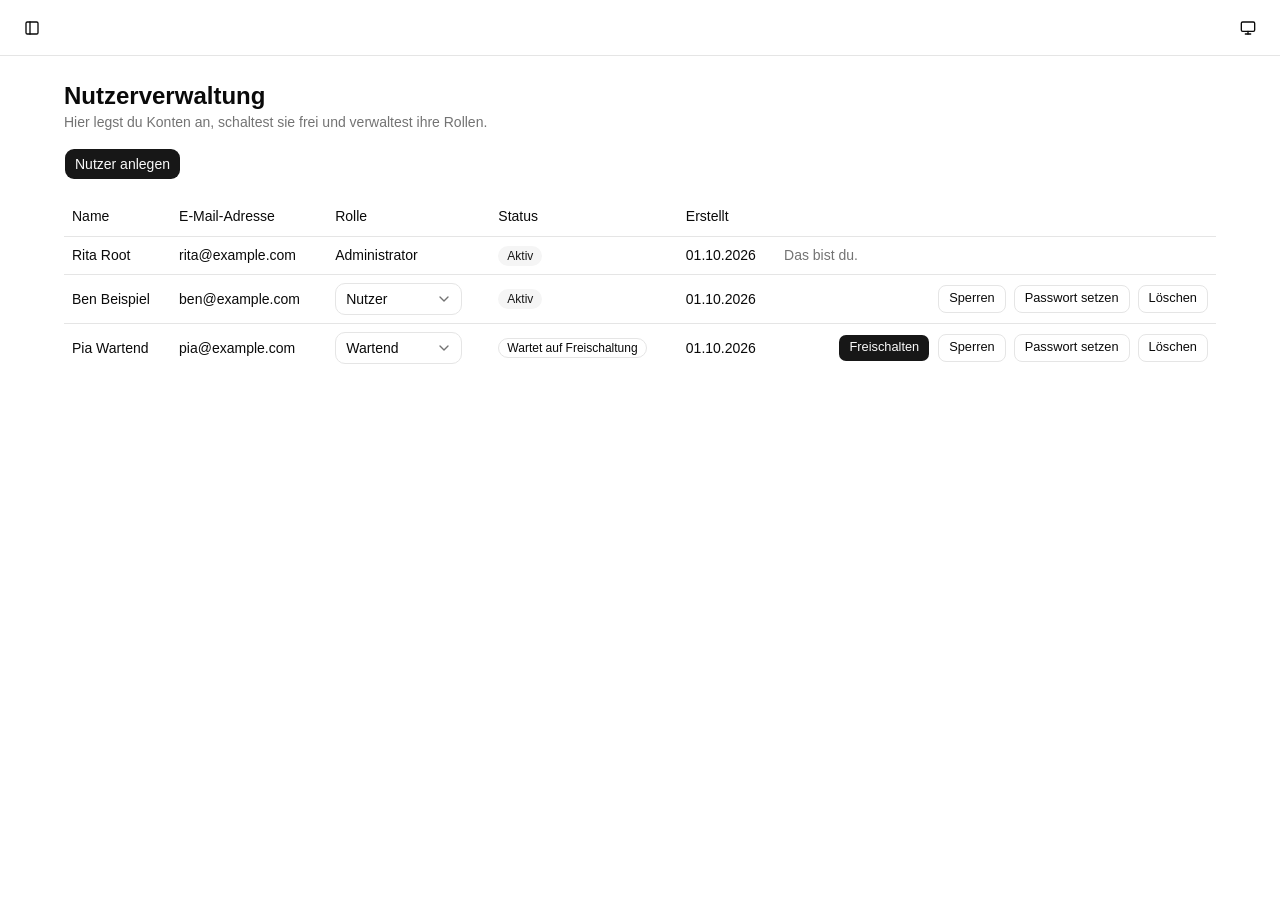
Test: AdminUsersPage: set a password › sends nothing when the password is too short
Expected: the heading "Nutzerverwaltung" is shown, [64,82,265,109]
Click the button with aria-label "Passwort für Ben Beispiel setzen".
click(1072, 298)  # box [1014,284,1130,312]
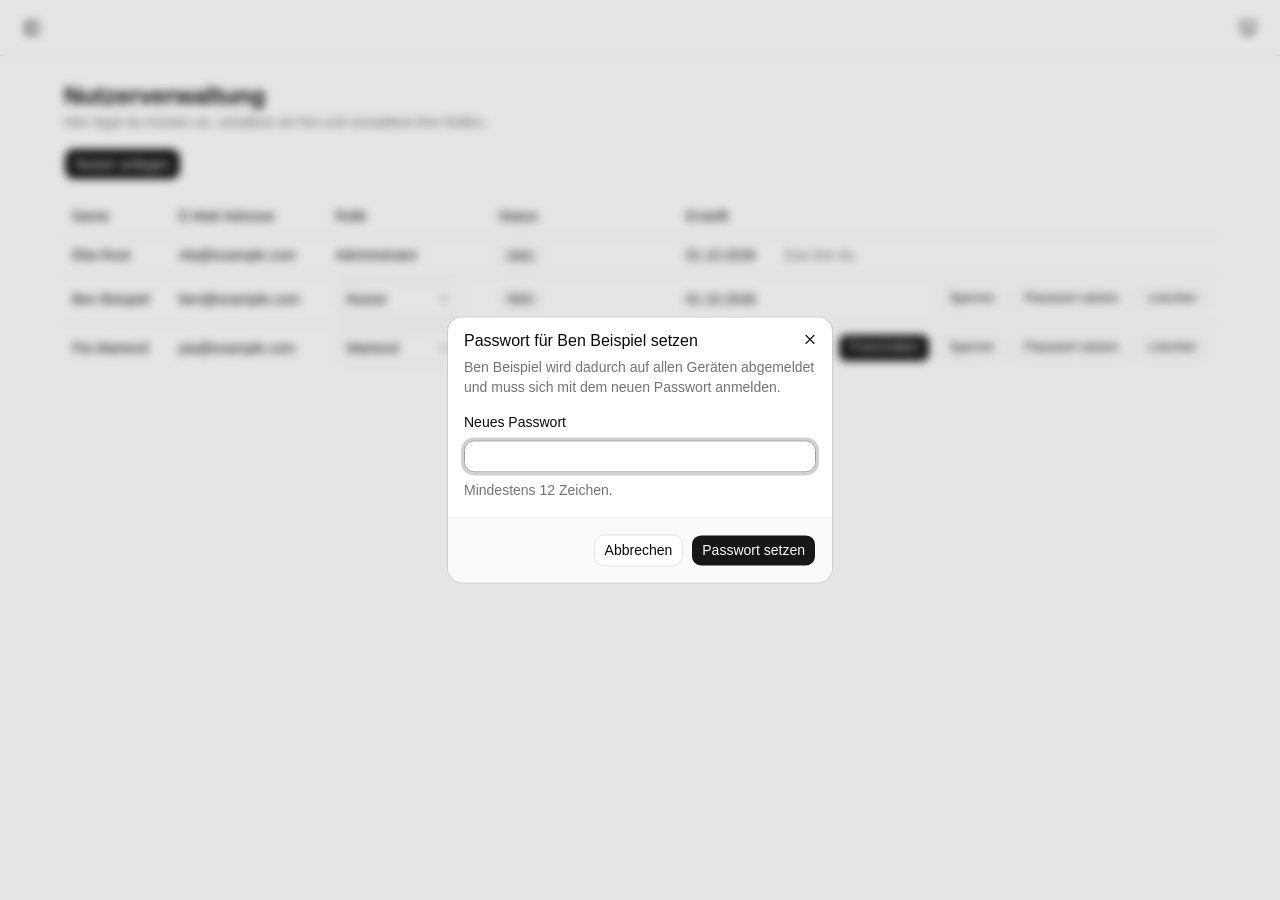
Type "short" into the password field labelled "Neues Passwort".
click(640, 457); type("short")  # box [464,441,816,473]
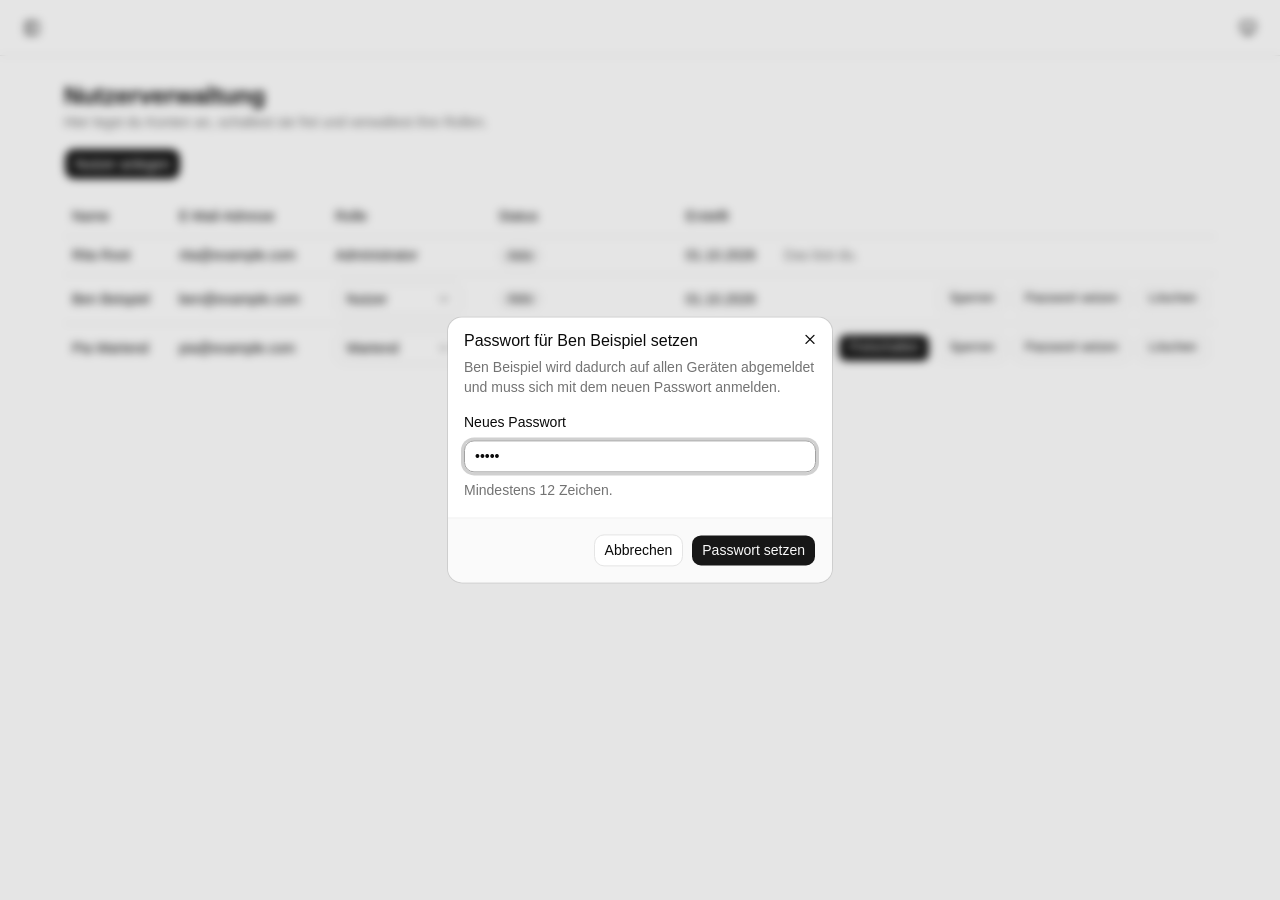
Click the button "Passwort setzen".
click(754, 551)  # box [691,535,816,567]
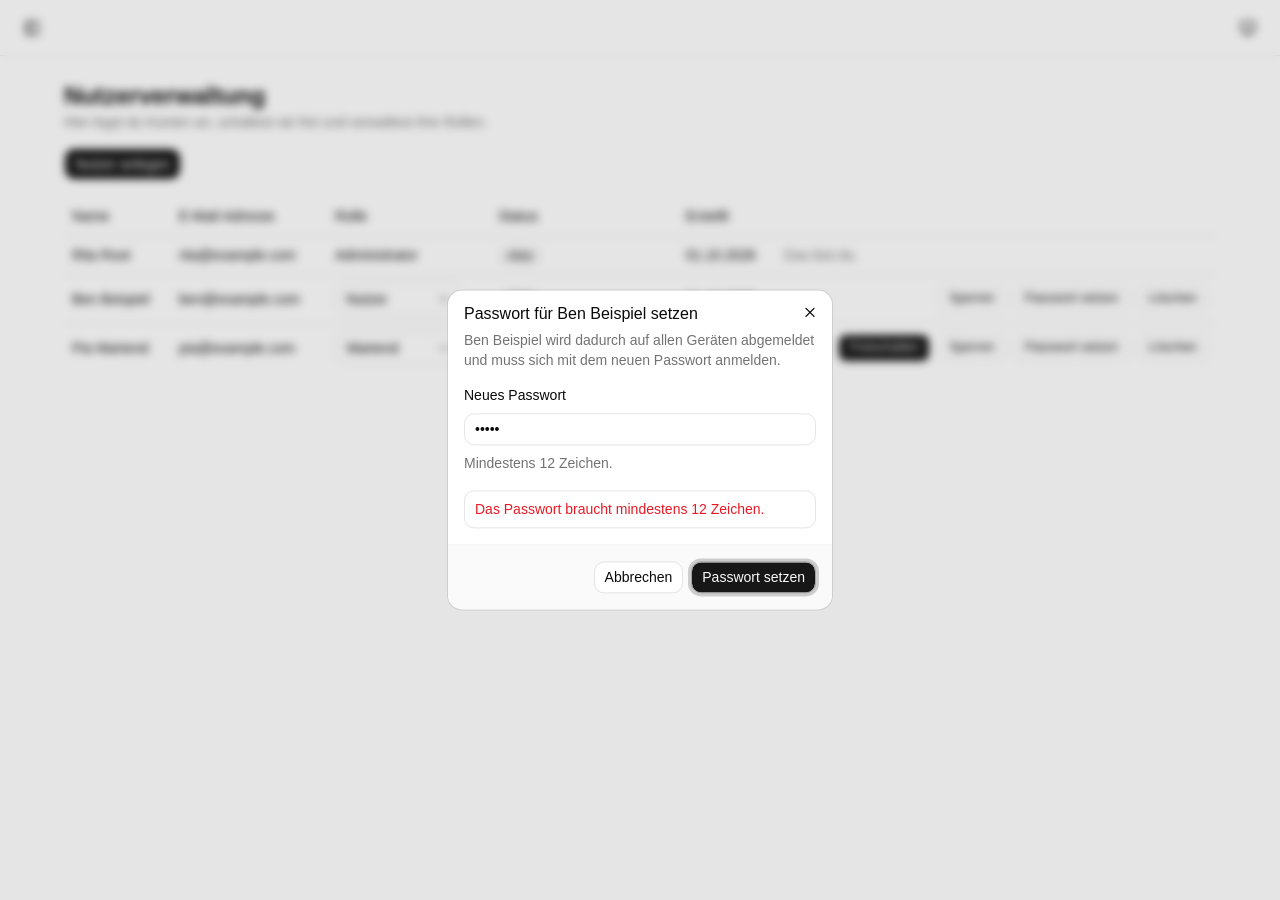
Expected: the text "Das Passwort braucht mindestens 12 Zeichen." is shown, [475,500,805,520]
